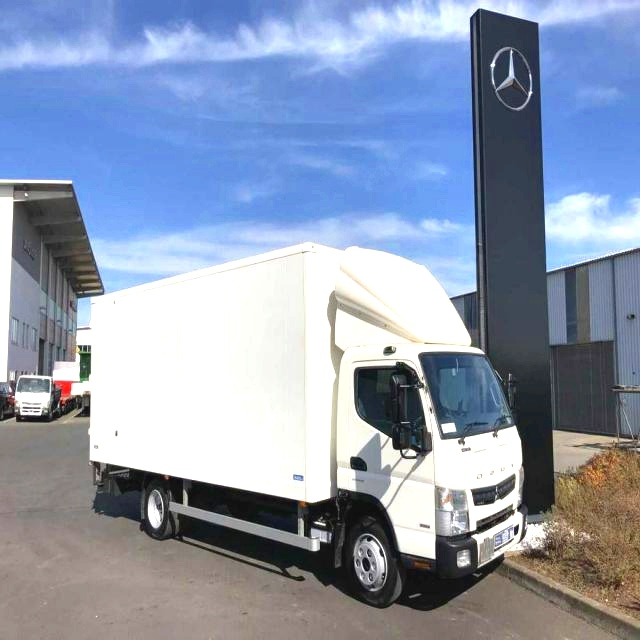truck: (48, 225, 601, 632)
